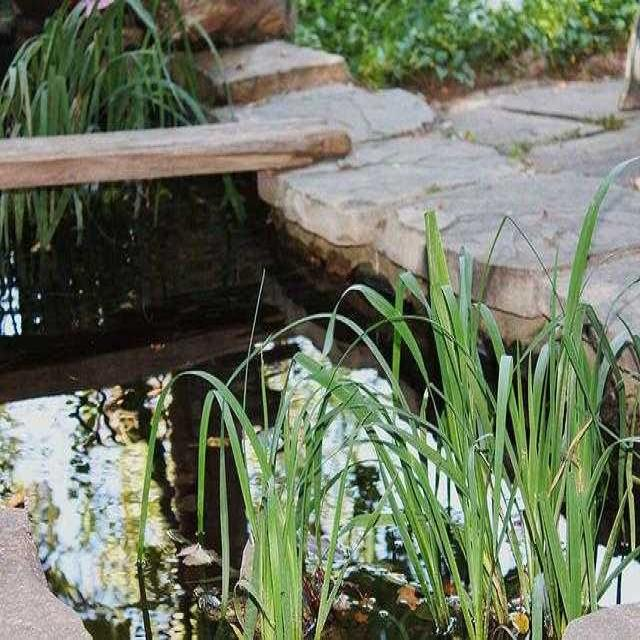Ponds: (2, 128, 640, 640)
